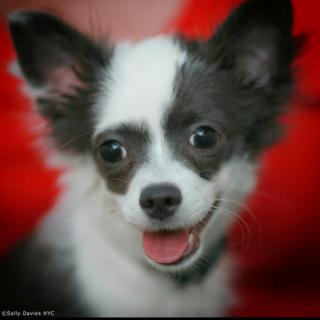dog: (8, 4, 311, 279)
nose: (136, 182, 185, 222)
